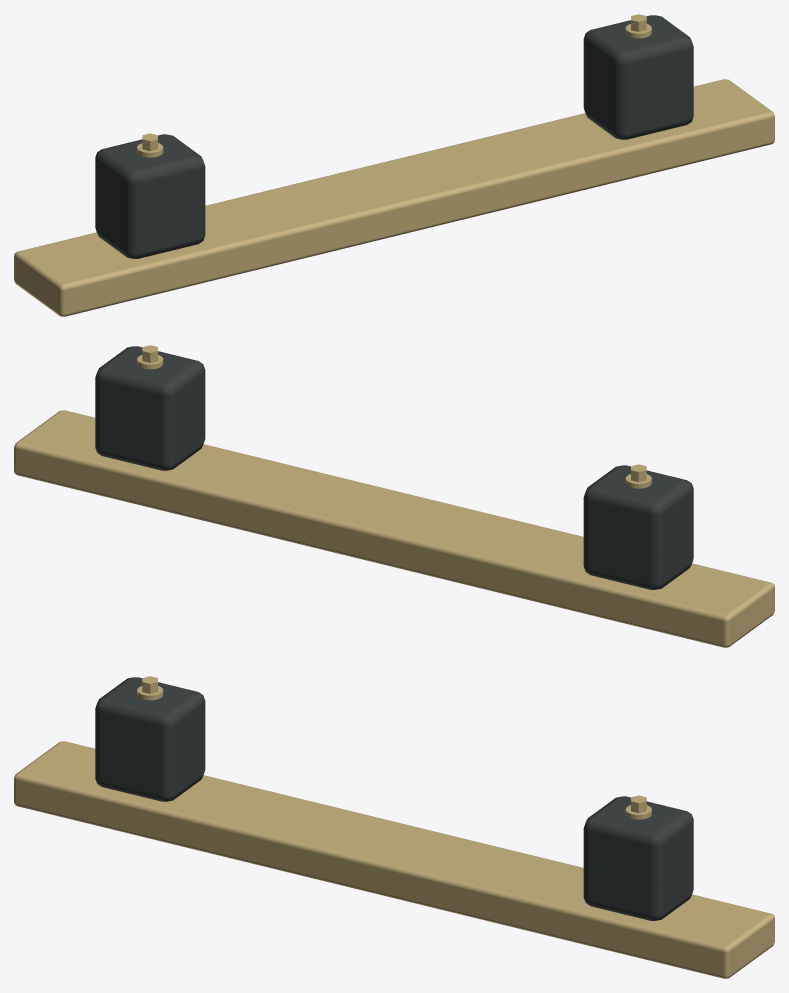
The model's file is city-courthouse-and-records-office-city-courthouse-and-b57b474e__30989.glb.
3 renders of one model, top to bottom at view 1: azimuth 30°, elevation 25°; view 2: azimuth 150°, elevation 25°; view 3: azimuth 330°, elevation 25°, orthographic.
Visible parts, largest first — view 1: city-courthouse-and-records-office-archive-shelf-end-stop; view 2: city-courthouse-and-records-office-archive-shelf-end-stop; view 3: city-courthouse-and-records-office-archive-shelf-end-stop.
Boxes of the visible parts, box(x1,y1,x2,y2) form: city-courthouse-and-records-office-archive-shelf-end-stop: box(14, 14, 774, 316); city-courthouse-and-records-office-archive-shelf-end-stop: box(14, 345, 774, 647); city-courthouse-and-records-office-archive-shelf-end-stop: box(14, 676, 774, 978).
Size of the model in its own units: 1.26 by 0.23 by 0.15.
